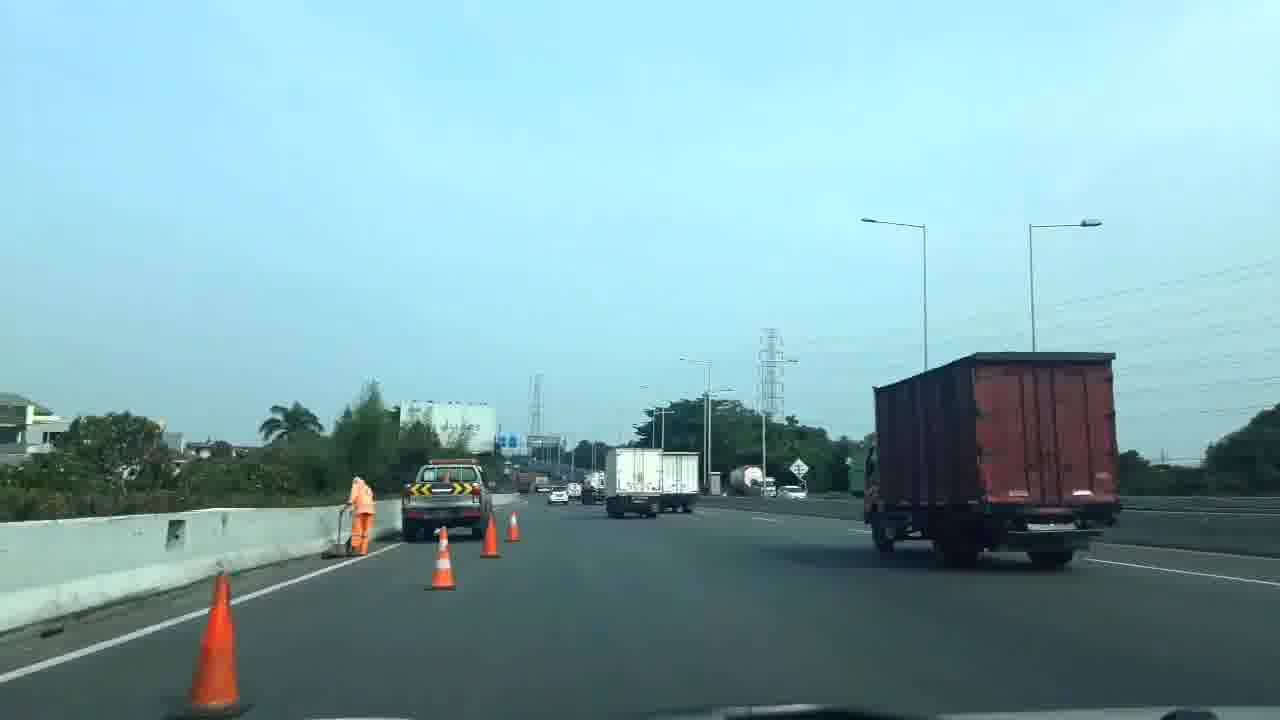plate_positive: (1025, 517, 1081, 531)
